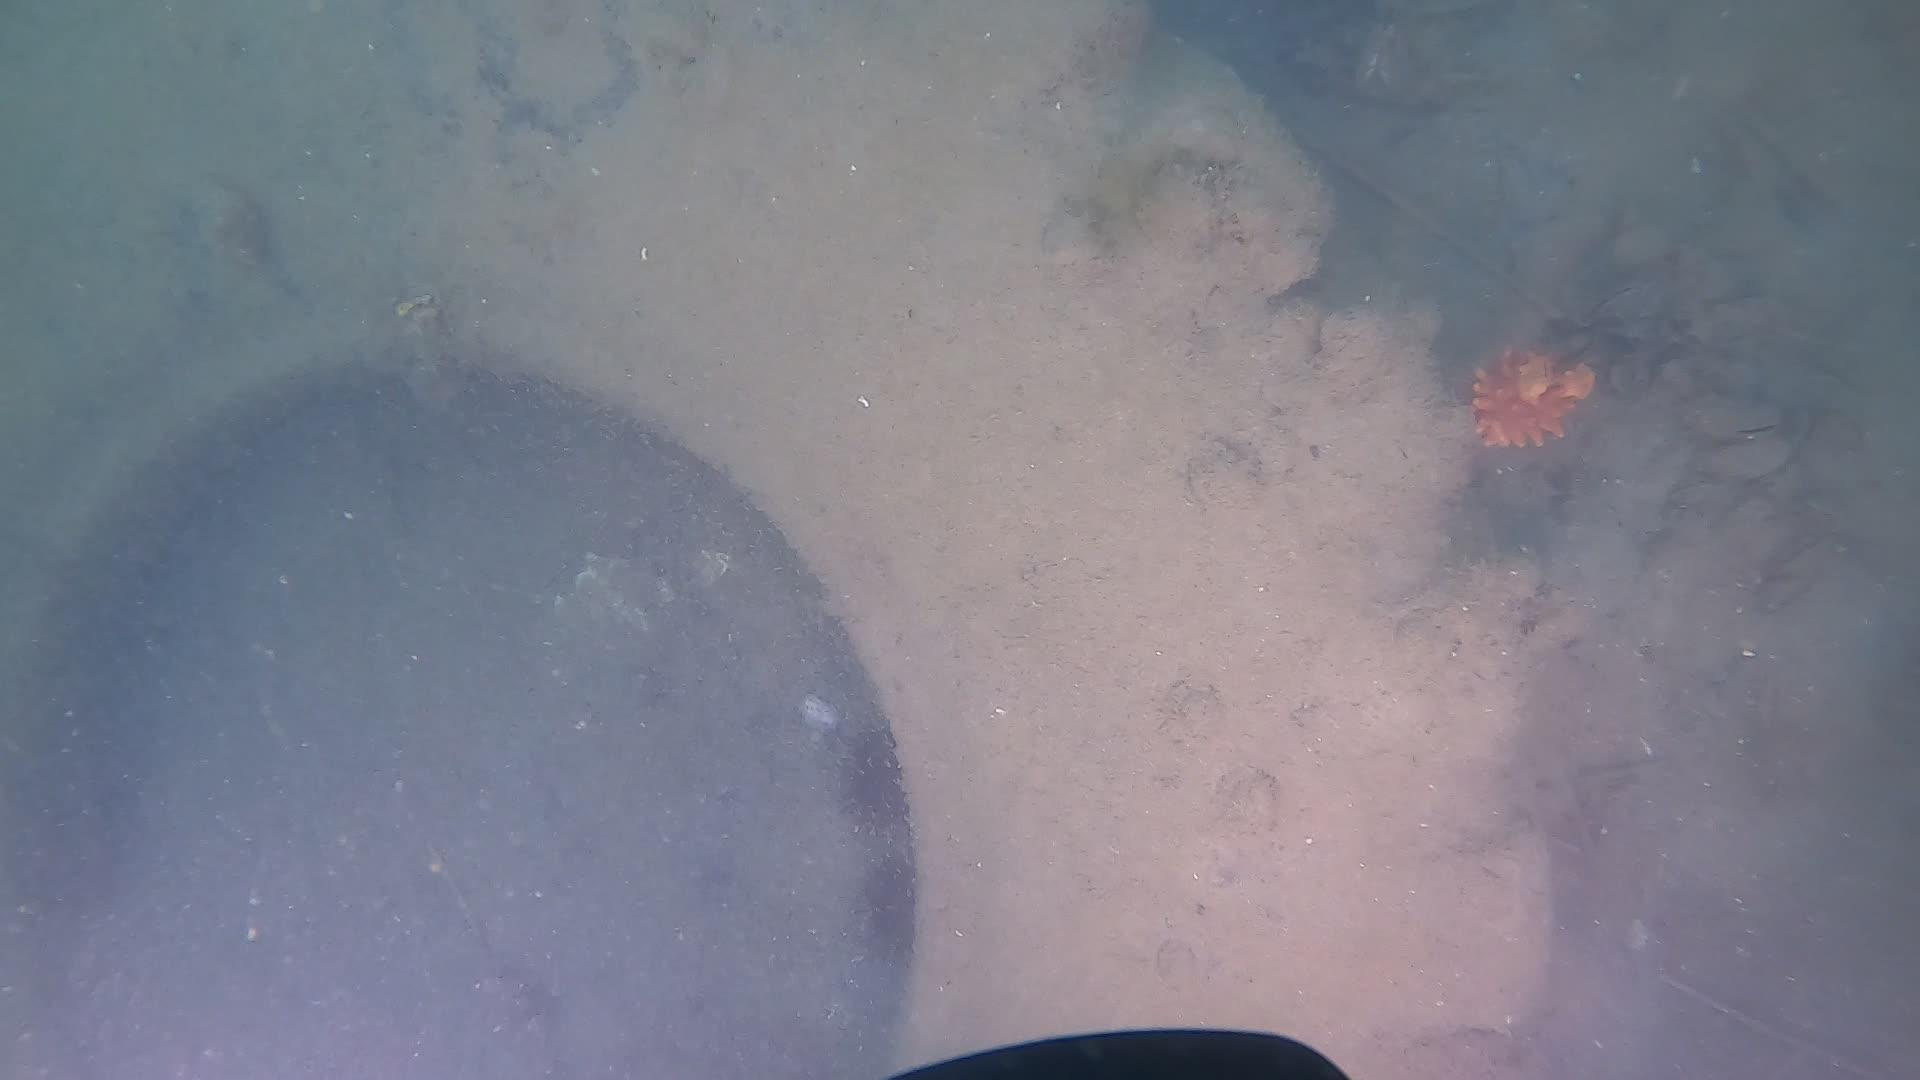tire: (0, 0, 1549, 1080)
